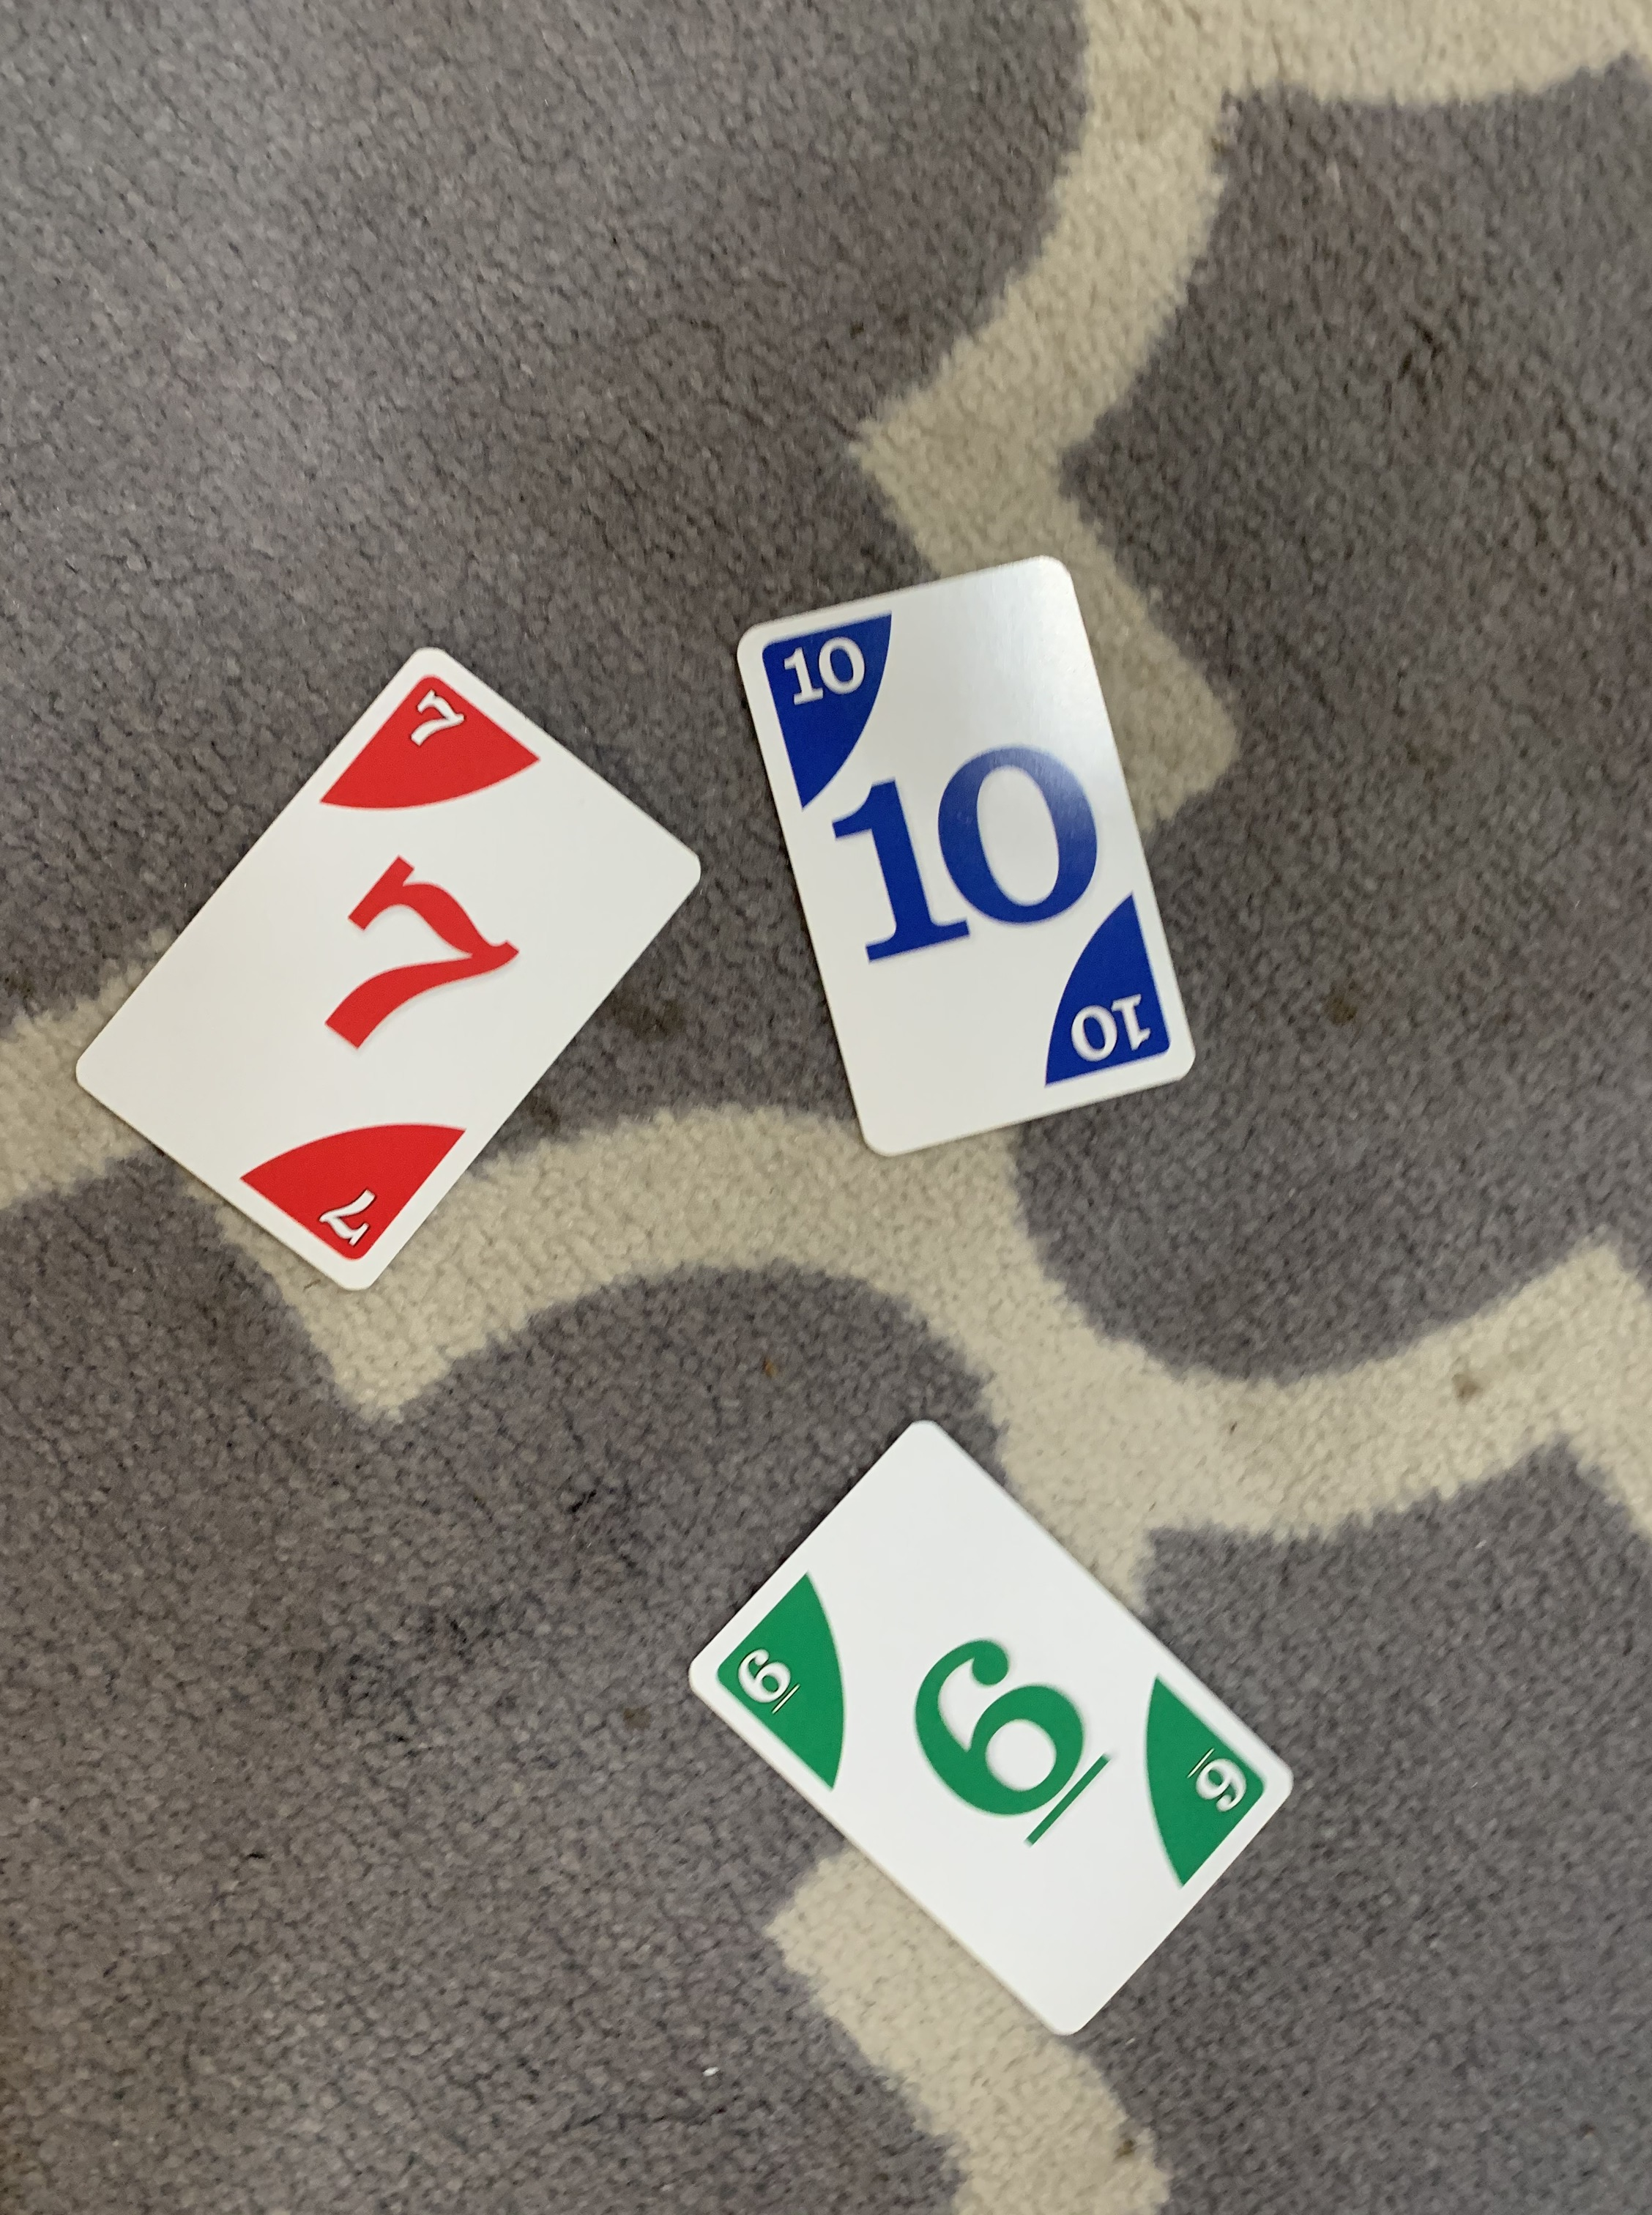seven: (42, 637, 706, 1292)
six: (665, 1397, 1310, 2050)
ten: (705, 543, 1230, 1182)
